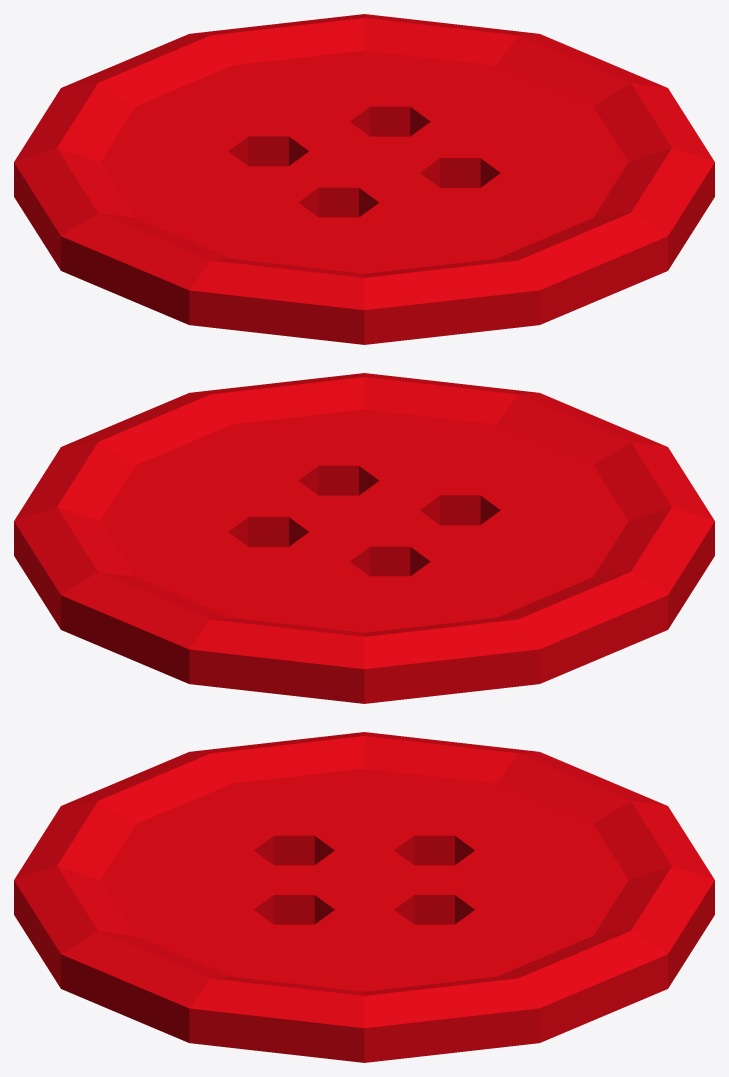
Rendered from button.gltf.
The picture shows the model from 3 angles, top to bottom: view 1: azimuth 30°, elevation 25°; view 2: azimuth 150°, elevation 25°; view 3: azimuth 270°, elevation 25°; orthographic projection.
Visible parts, largest first — view 1: Cylinder; view 2: Cylinder; view 3: Cylinder.
Boxes of the visible parts, left/top/right/bottom form: Cylinder: left=14, top=14, right=714, bottom=344; Cylinder: left=14, top=373, right=714, bottom=703; Cylinder: left=14, top=732, right=714, bottom=1062.
Bounding box in the file's own units: 2 × 0.1987 × 2.
